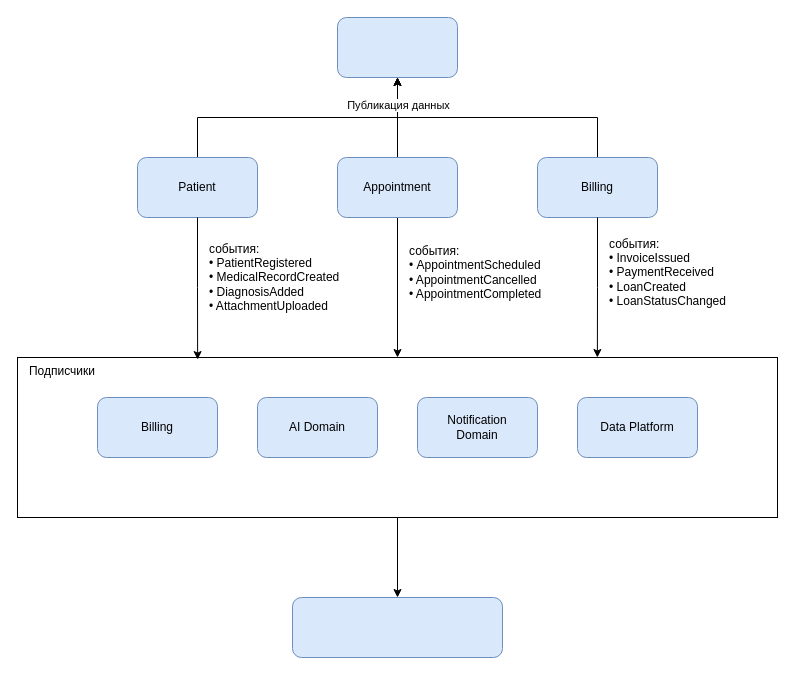
This 795x675 diagram has some shape labels left out. The centre of each missing label's shape, as x and y in pixels:
"Kafka" goes at [397,47].
"Другие подписчики: Inventory, HR, партнёрские системы" goes at [397,627].
